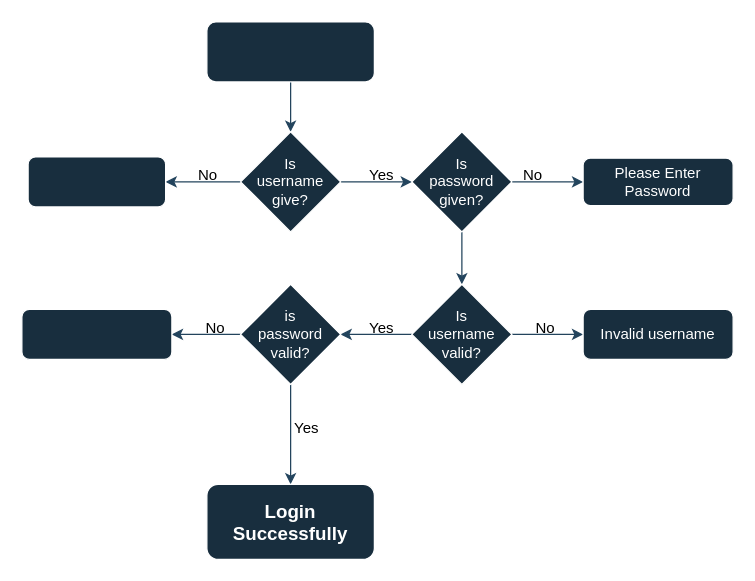
This 755x581 diagram has some shape labels left out. Each missing label, with the centre of its shape:
Incorrect Password: the point at 96,333
Login: the point at 290,51
please enter username: the point at 96,181
